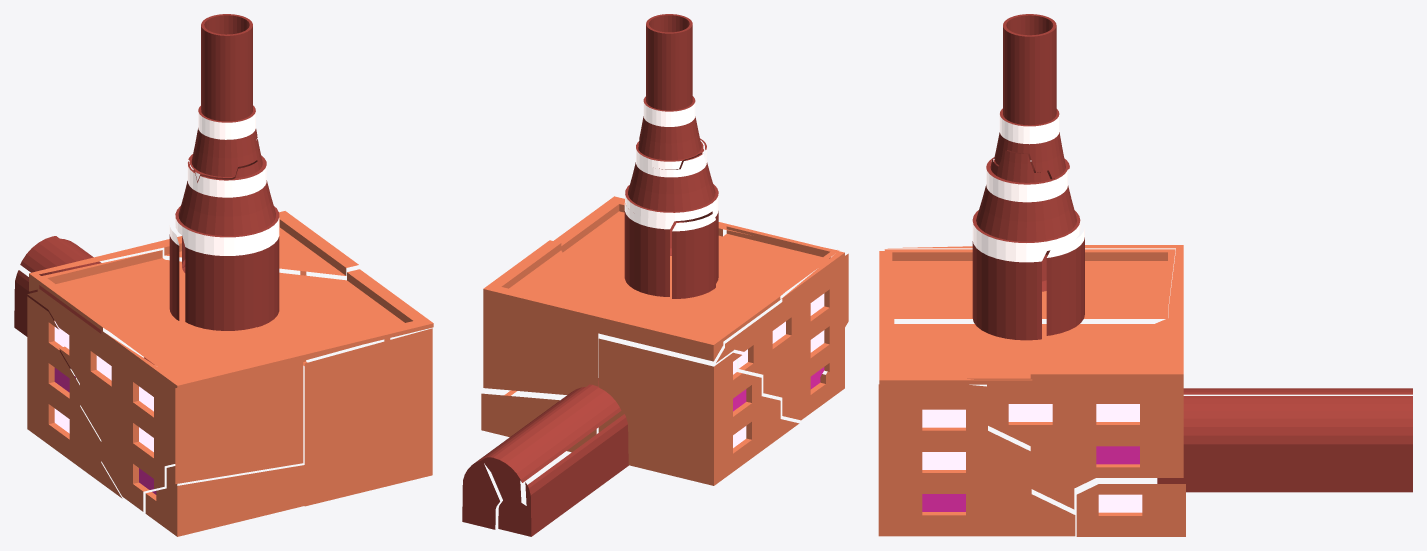
Rendered from factoryExtension-explosion.glb.
3 views of the same model, side by side, from view 1: azimuth 30°, elevation 25°; view 2: azimuth 150°, elevation 25°; view 3: azimuth 270°, elevation 25° (orthographic). The views are drawn at different scales.
Parts seen in each view (by area): view 1: Cube.010, Cube.014, Cube.004, Cube.001, Cube.007, Cube.000, Cube.002, Cube.006, Cube.003, Cube.008, Cube.012, Cube.011; view 2: Cube.002, Cube.003, Cube.010, Cube.001, Cube.000, Cube.012, Cube.007, Cube.008, Cube.004, Cube.005, Cube.011, Cube.013 (+2 smaller); view 3: Cube.003, Cube.013, Cube.014, Cube.004, Cube.007, Cube.001, Cube.000, Cube.009, Cube.005, Cube.008.
Part boxes in pixels (left/top/right/bottom): Cube.010: left=27, top=288, right=424, bottom=511; Cube.014: left=304, top=328, right=432, bottom=506; Cube.004: left=175, top=137, right=279, bottom=330; Cube.001: left=41, top=250, right=289, bottom=381; Cube.007: left=104, top=259, right=433, bottom=387; Cube.000: left=188, top=14, right=257, bottom=181; Cube.002: left=27, top=296, right=122, bottom=498; Cube.006: left=145, top=465, right=304, bottom=536; Cube.003: left=29, top=211, right=358, bottom=375; Cube.008: left=20, top=236, right=94, bottom=275; Cube.012: left=14, top=270, right=154, bottom=368; Cube.011: left=169, top=225, right=179, bottom=320; Cube.002: left=598, top=338, right=799, bottom=485; Cube.003: left=483, top=240, right=835, bottom=394; Cube.010: left=716, top=253, right=848, bottom=420; Cube.001: left=616, top=226, right=839, bottom=340; Cube.000: left=637, top=14, right=704, bottom=169; Cube.012: left=491, top=414, right=628, bottom=536; Cube.007: left=554, top=196, right=844, bottom=314; Cube.008: left=482, top=378, right=621, bottom=503; Cube.004: left=625, top=138, right=718, bottom=283; Cube.005: left=624, top=203, right=674, bottom=296; Cube.011: left=672, top=213, right=715, bottom=298; Cube.013: left=462, top=387, right=585, bottom=529; Cube.003: left=888, top=245, right=1183, bottom=509; Cube.013: left=1157, top=396, right=1412, bottom=492; Cube.014: left=878, top=384, right=1075, bottom=536; Cube.004: left=972, top=150, right=1080, bottom=340; Cube.007: left=879, top=251, right=1153, bottom=388; Cube.001: left=884, top=249, right=1175, bottom=318; Cube.000: left=993, top=14, right=1069, bottom=178; Cube.009: left=1076, top=484, right=1185, bottom=536; Cube.005: left=1046, top=228, right=1084, bottom=335; Cube.008: left=1183, top=388, right=1412, bottom=394.
Bounding box in the file's own units: 5.38 × 8.5 × 9.29.
